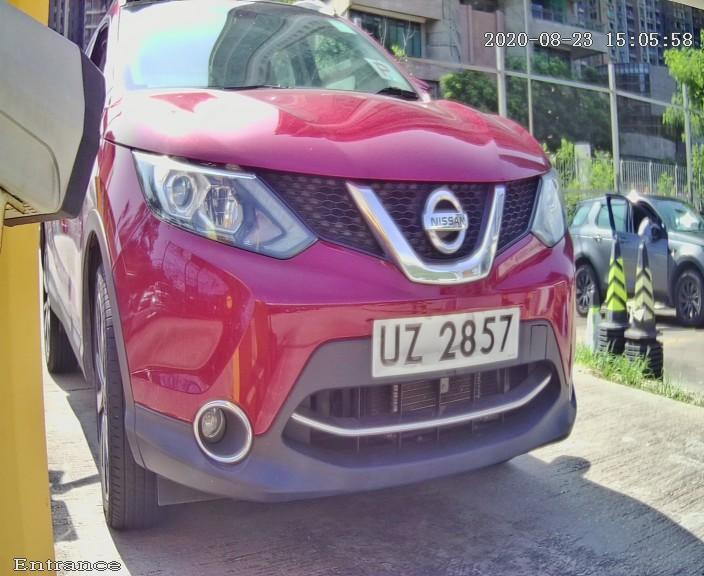Car: (23, 13, 623, 533)
License Plate: (345, 284, 543, 399)
